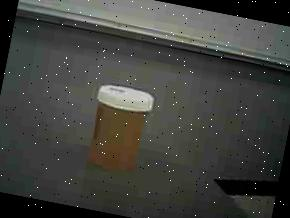Bottle B: (77, 76, 164, 180)
